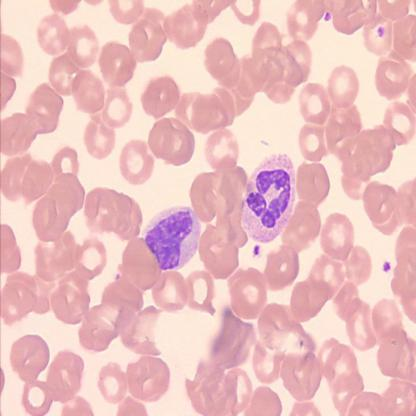Metamyelocyte: (143, 202, 202, 273)
